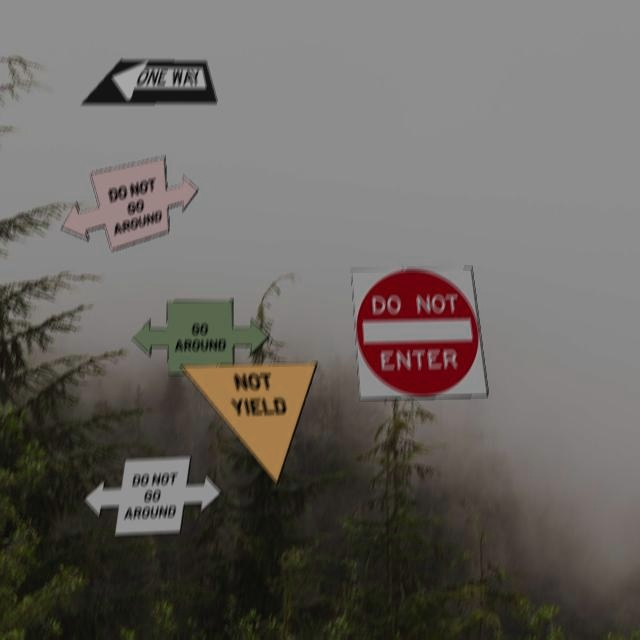DO_NOT_ENTER: (351, 268, 489, 400)
DO_NOT_GO_AROUND: (61, 157, 199, 251), (84, 457, 222, 536)
GO_AROUND: (132, 300, 270, 375)
NOT_YIELD: (180, 363, 318, 485)
ONE_WAY_ left: (80, 60, 218, 105)
